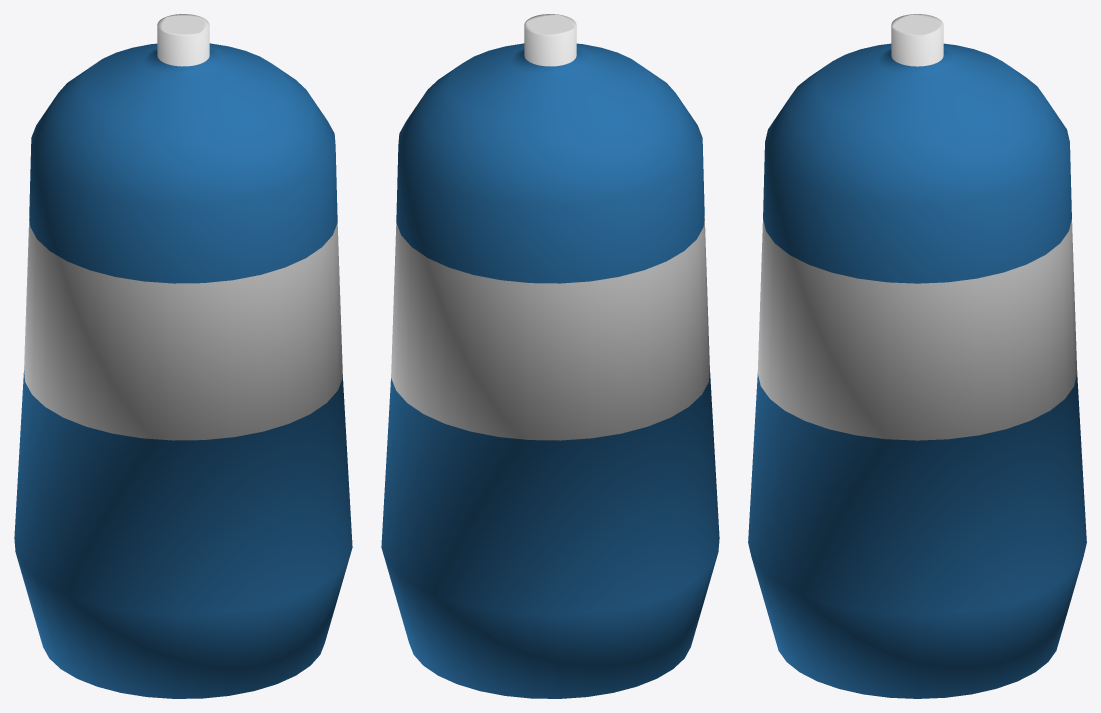
File: cleaner (1).glb
3 renders of one model, left to right at view 1: azimuth 30°, elevation 25°; view 2: azimuth 150°, elevation 25°; view 3: azimuth 270°, elevation 25°, orthographic.
Visible parts, largest first — view 1: Sphere; view 2: Sphere; view 3: Sphere.
Part boxes in pixels (x1,y1,x2,y2): Sphere: [14, 14, 352, 698]; Sphere: [381, 14, 719, 698]; Sphere: [748, 14, 1086, 698].
Size of the model in its own units: 3.07 by 6.16 by 3.07.
